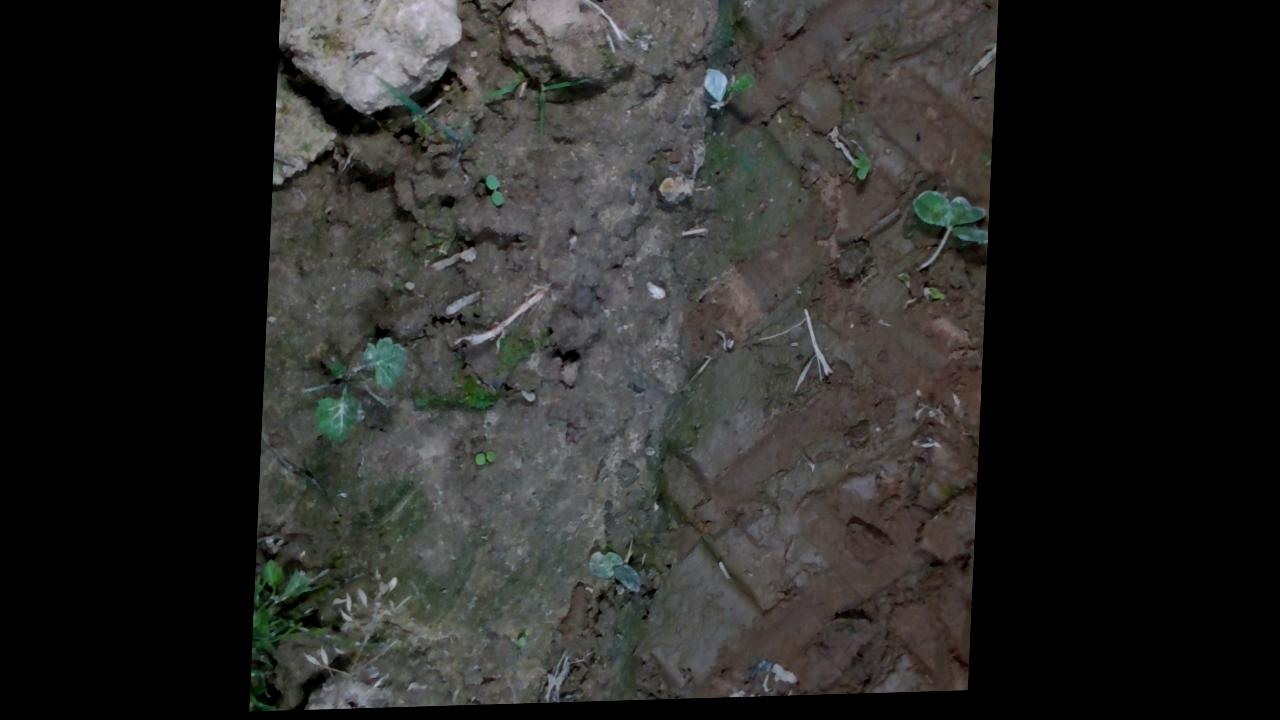weed: (485, 175, 509, 210), (479, 450, 504, 468)
